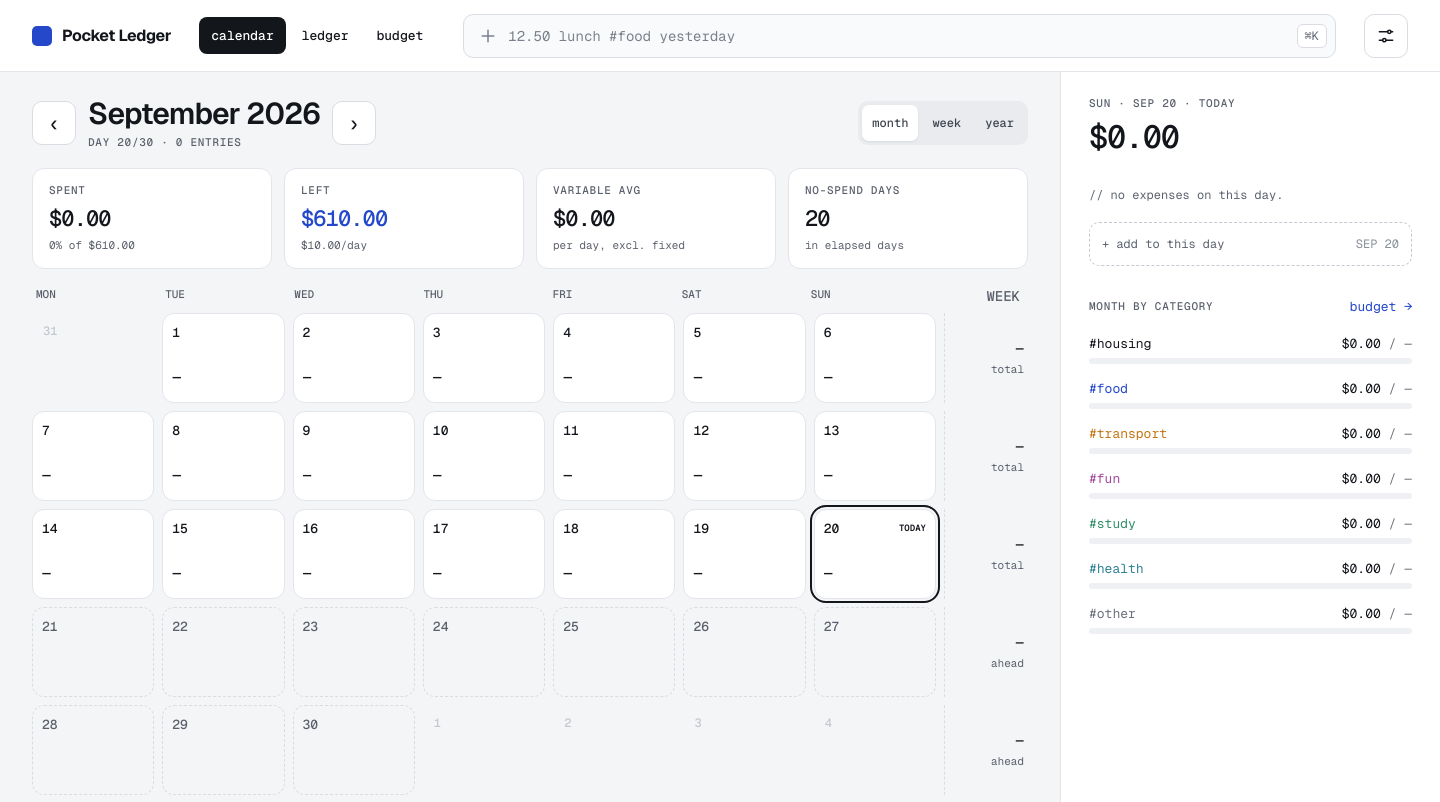
Test: reserves the same upcoming recurring costs in calendar, budget and Settings daily allowances
The image size is (1440, 802).
Expected: the text "$10.00/day" is shown, x1=301 y1=238 x2=367 y2=252
Click the button "budget" at coordinates (400, 36), box x1=364 y1=17 x2=435 y2=54
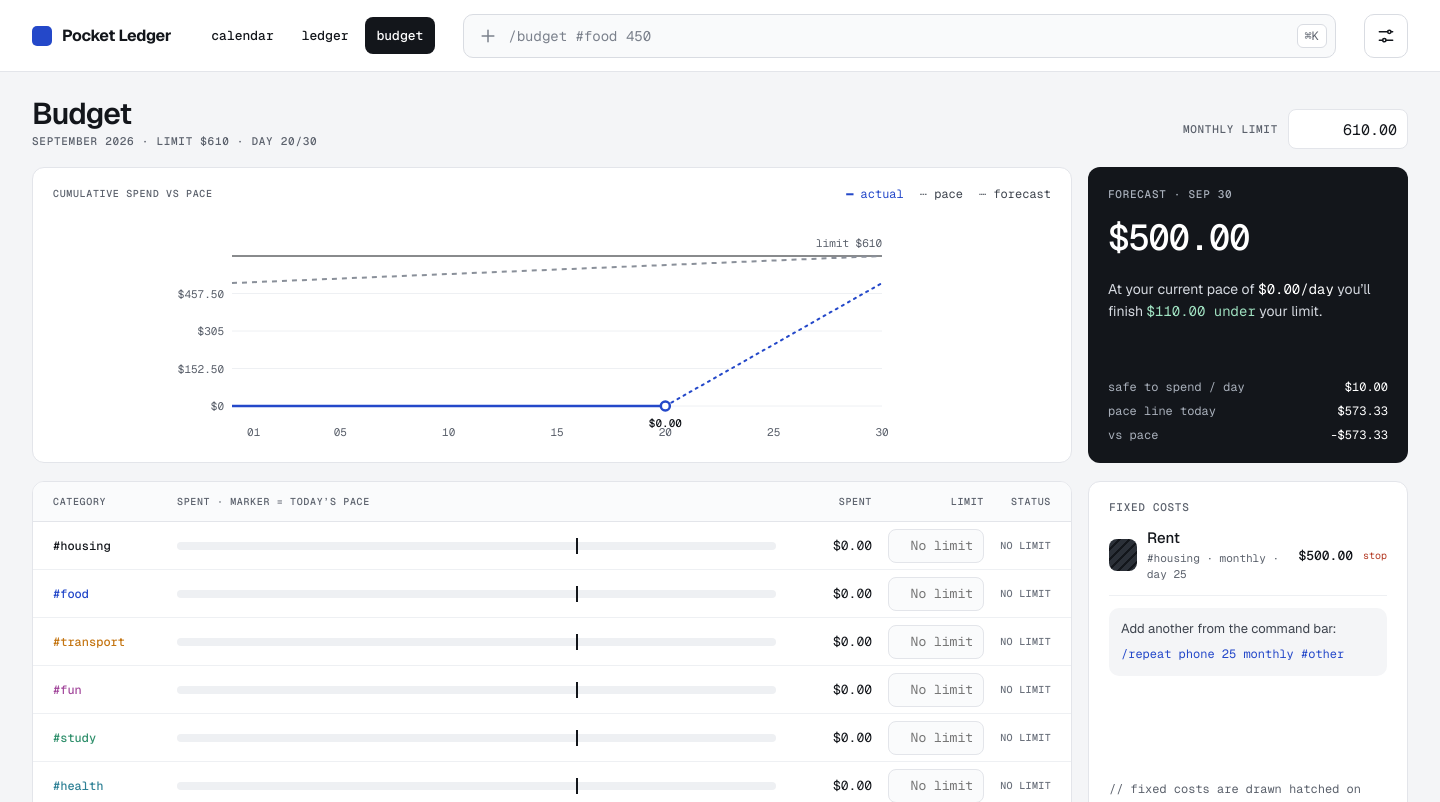
Expected: the text "$10.00" is shown, x1=1345 y1=379 x2=1388 y2=395
Click the button named "Settings" at coordinates (1386, 36), box x1=1364 y1=14 x2=1408 y2=58
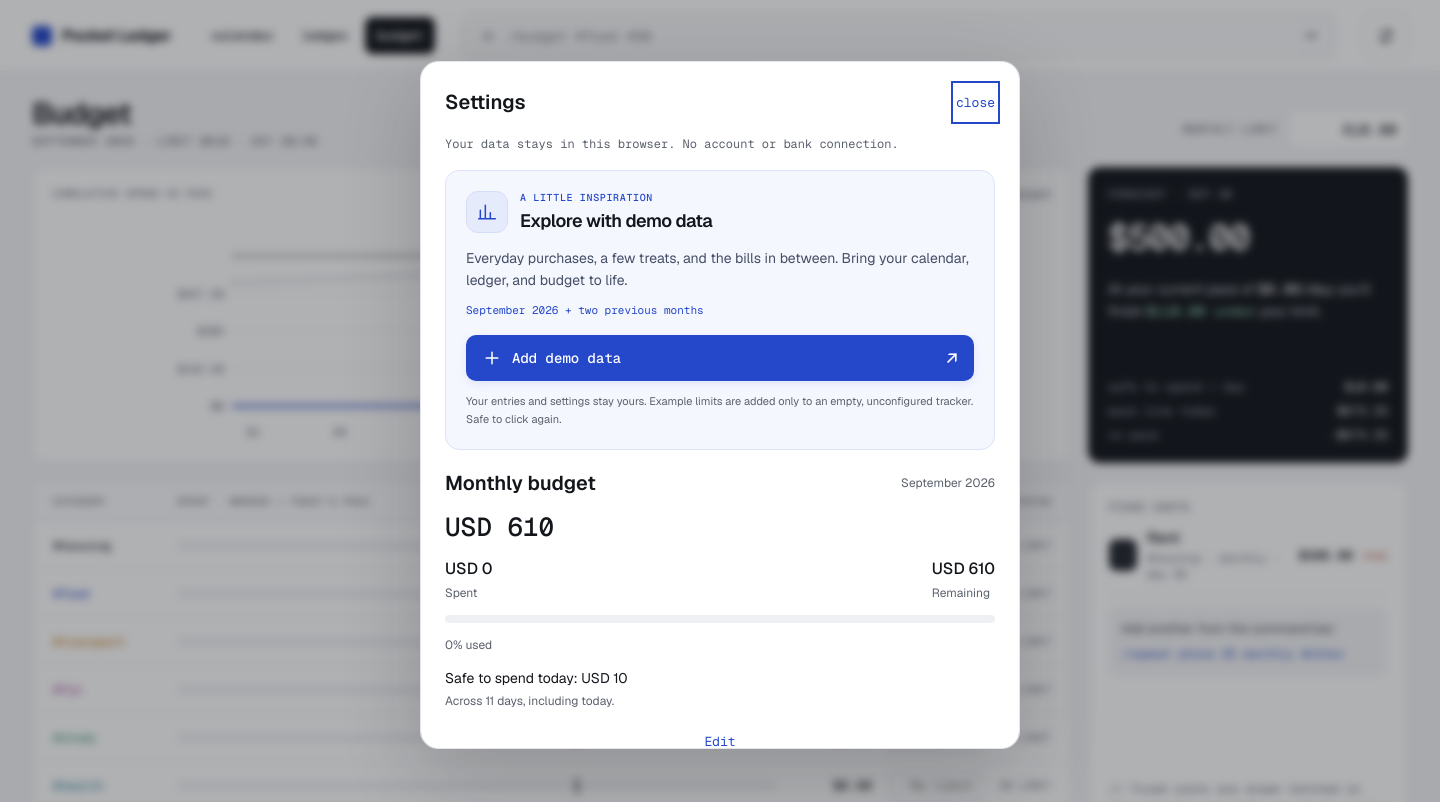
Expected: the text "Safe to spend today: USD 10" is shown, x1=445 y1=668 x2=628 y2=686
Expected: the text named "Budget remaining" reads "USD 610", x1=932 y1=558 x2=995 y2=578
